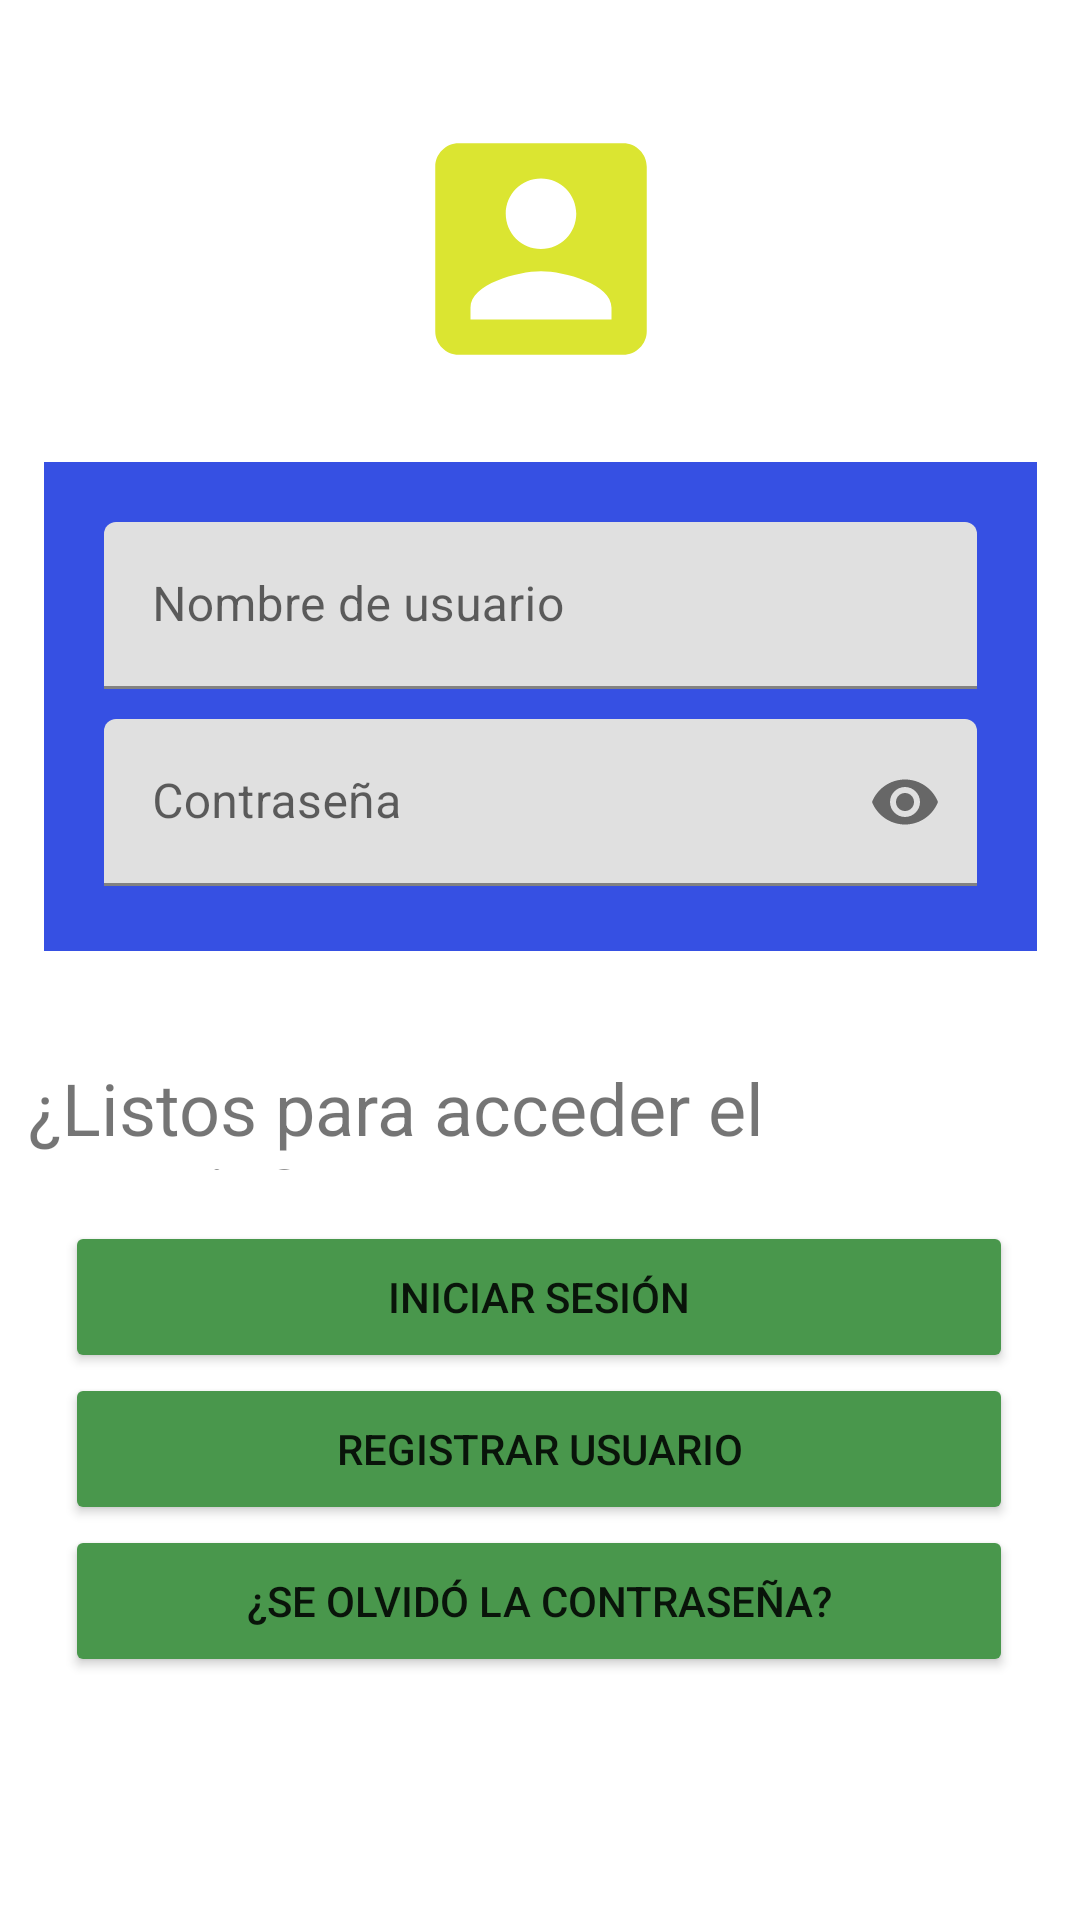

Screen size 1080px×1920px. Icon name, then its box in pixels as (x1, y1, x2, y2):
user: (435, 143, 647, 355)
